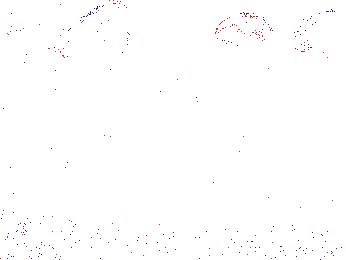moon jellyfish: (58, 1, 133, 69), (10, 1, 87, 54), (213, 13, 280, 61), (293, 11, 346, 54), (1, 26, 29, 97)
